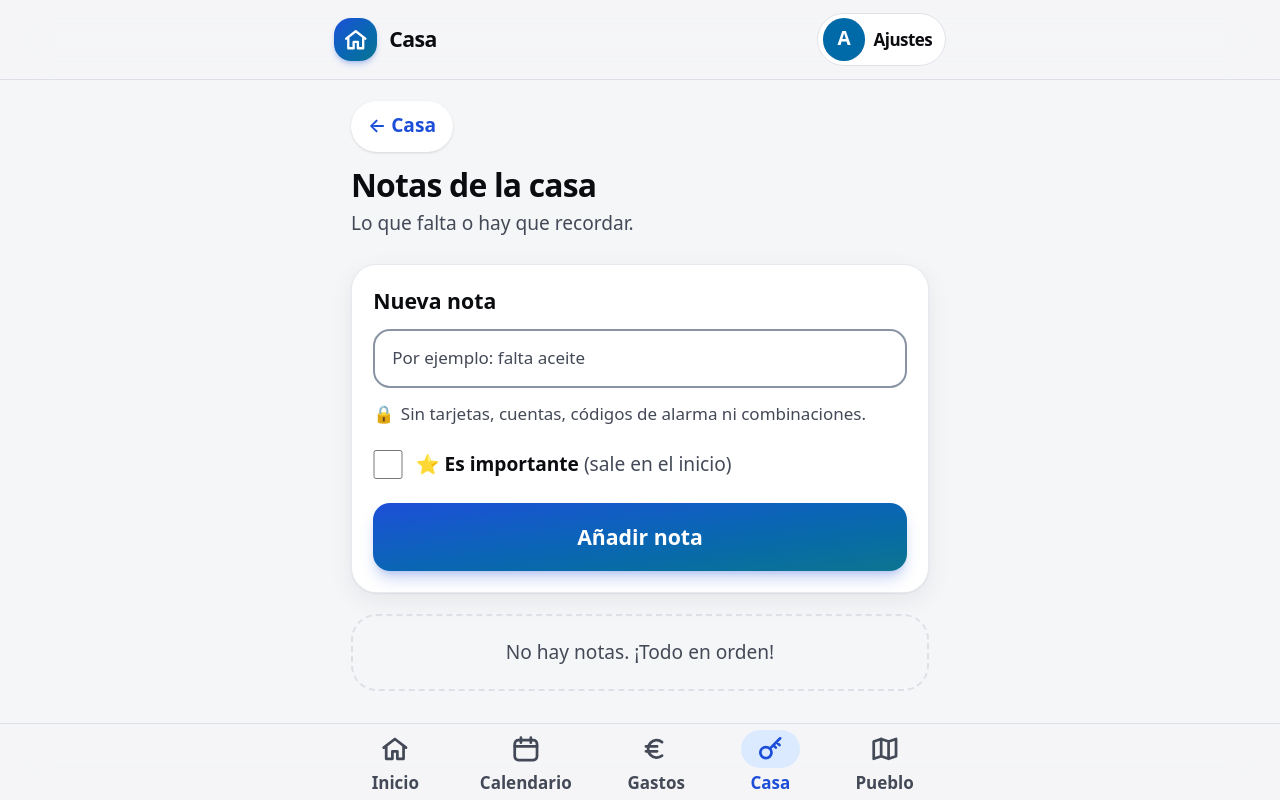
Test: eventos del pueblo › una nota se marca como importante al crearla o después, y va arriba
In the field labelled "Nueva nota": (640, 358) [373, 329, 907, 388], type "Llamar al fontanero"
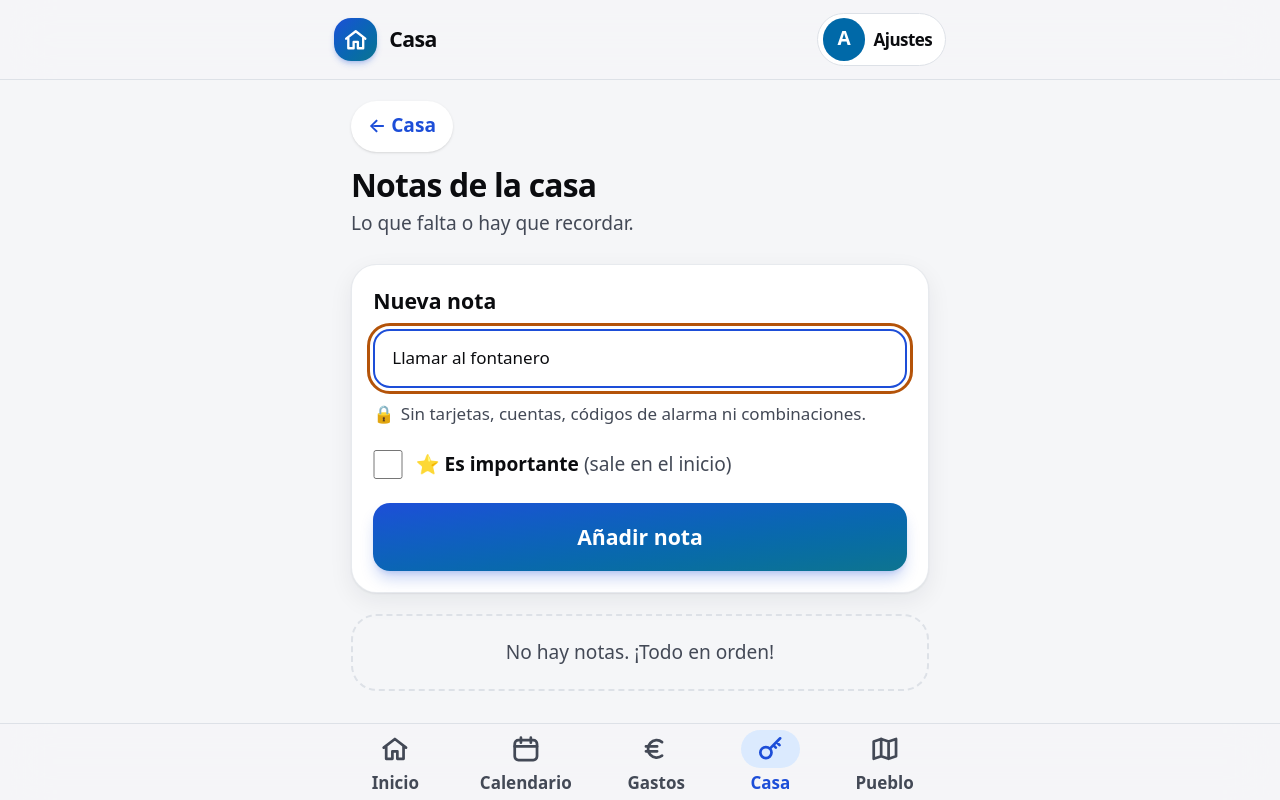
Click the checkbox labelled "⭐ Es importante (sale en el inicio)": click(388, 465) [373, 450, 403, 480]
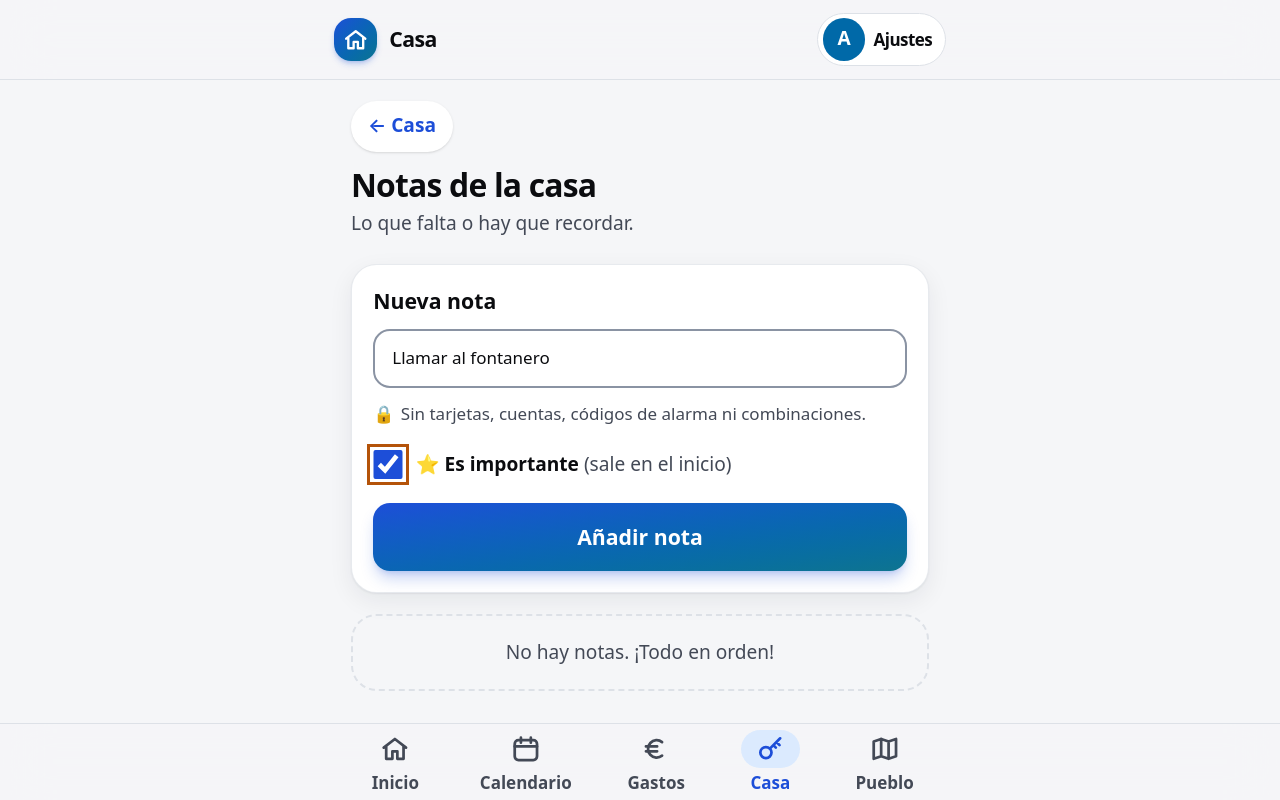
Click the button "Añadir nota": click(640, 537) [373, 503, 907, 571]
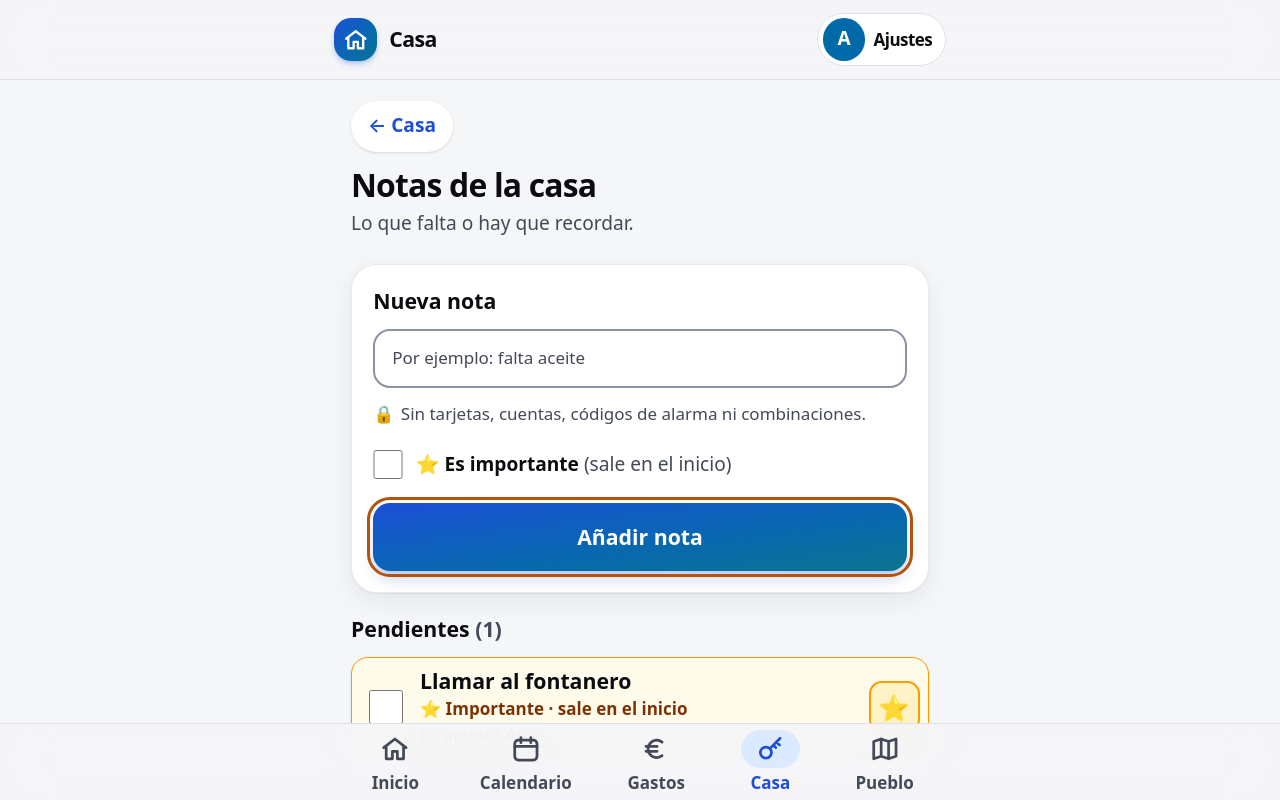
Now the text "⭐ Importante · sale en el inicio" is shown, box [420, 697, 688, 720]
In the field labelled "Nueva nota": (640, 358) [373, 329, 907, 388], type "Falta aceite"
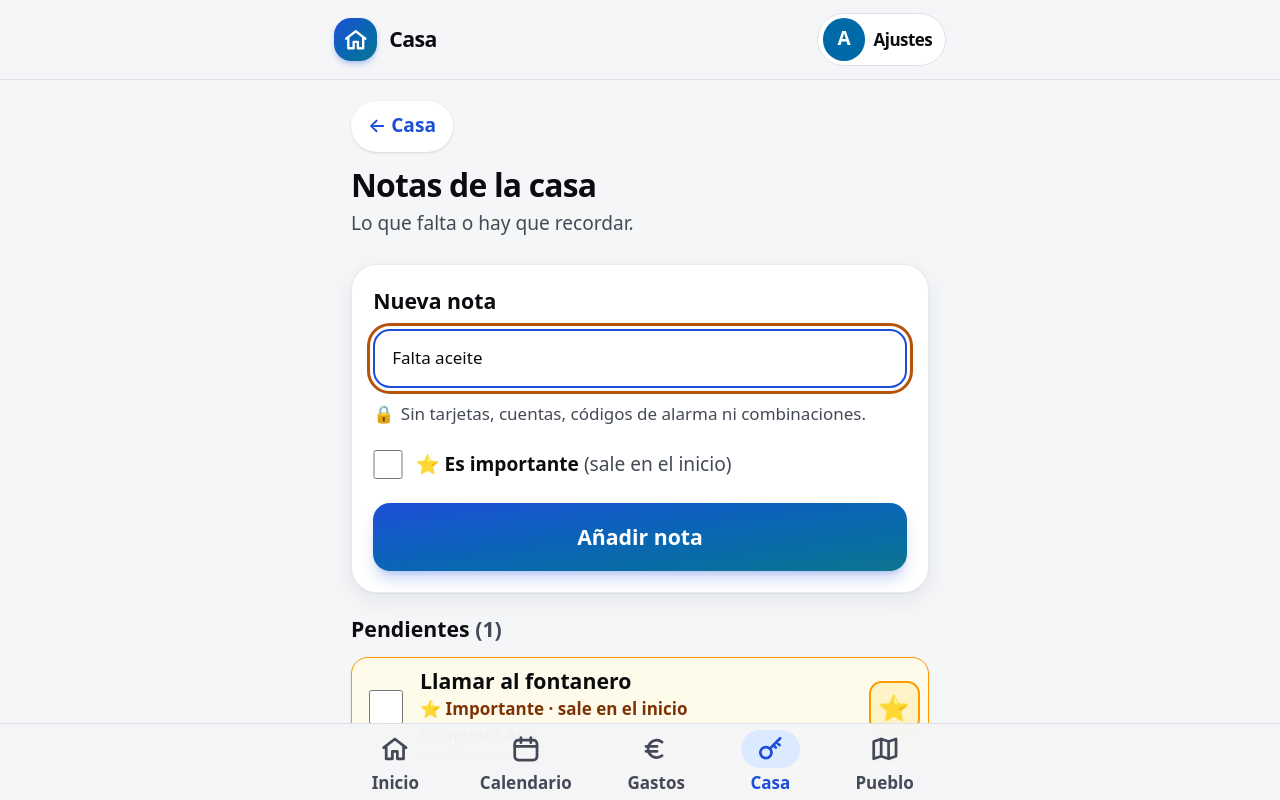
Click the button "Añadir nota": click(640, 537) [373, 503, 907, 571]
(page scrolled)
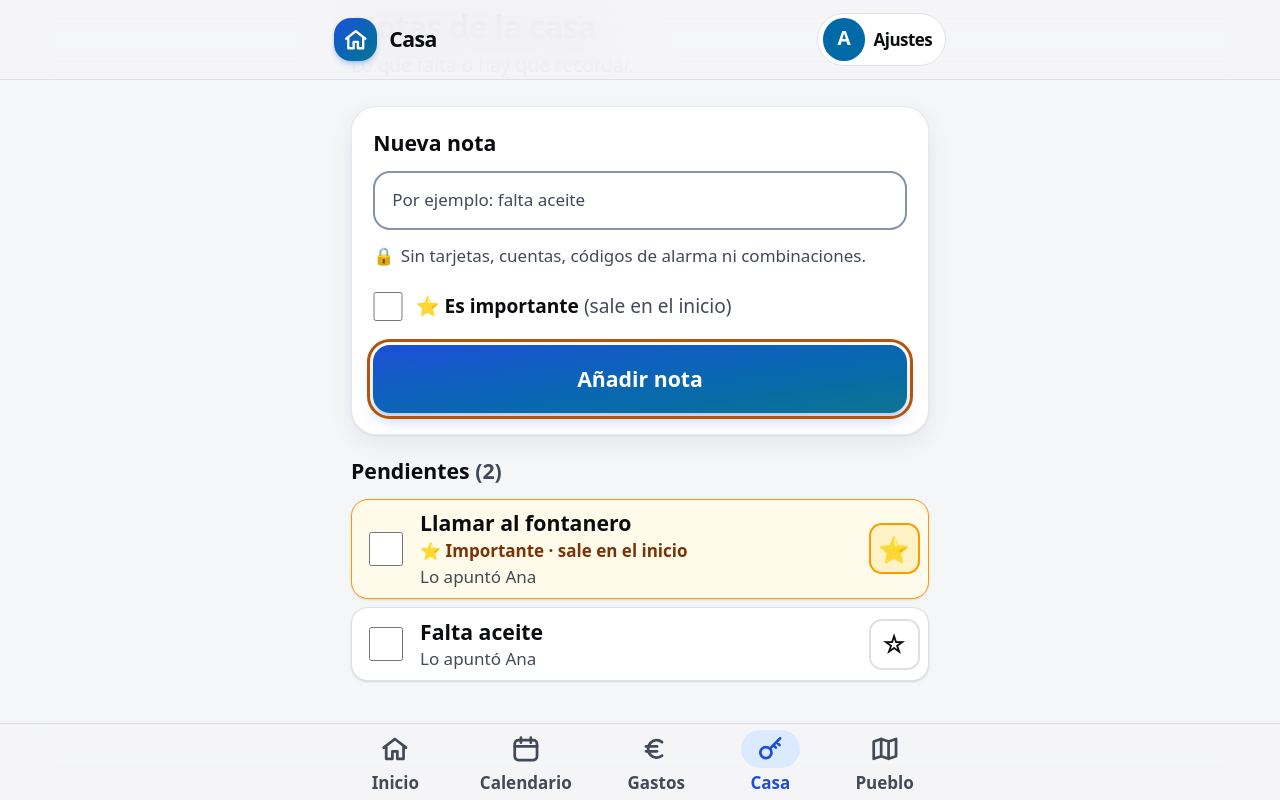
Click the button named "Marcar importante: Falta aceite": click(894, 644) [868, 619, 920, 670]
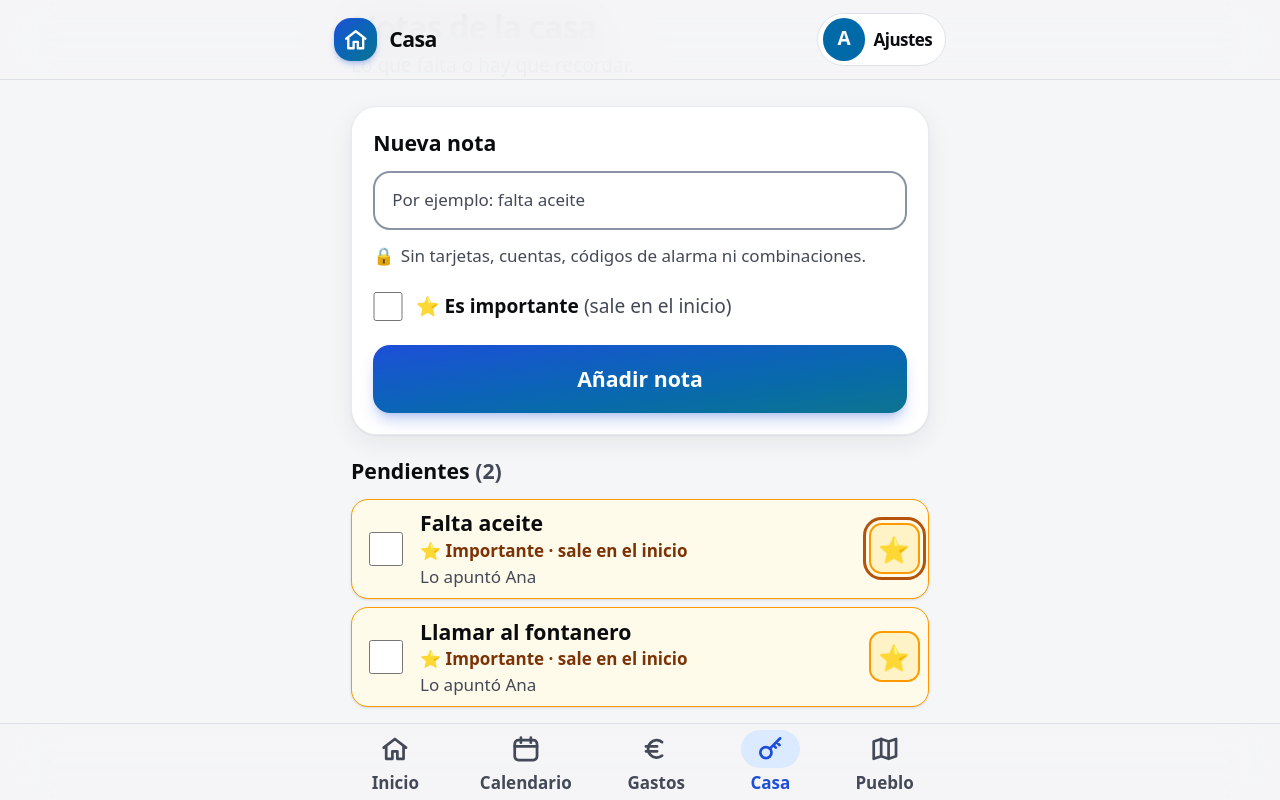
Now the button named "Quitar importante: Falta aceite" is shown, box [868, 523, 920, 574]
